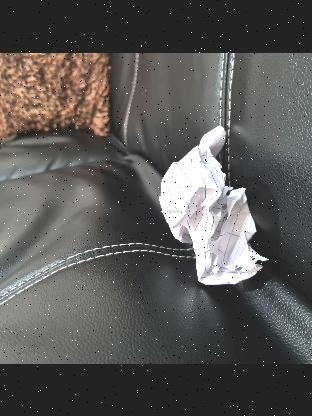Others: (158, 118, 260, 286)
